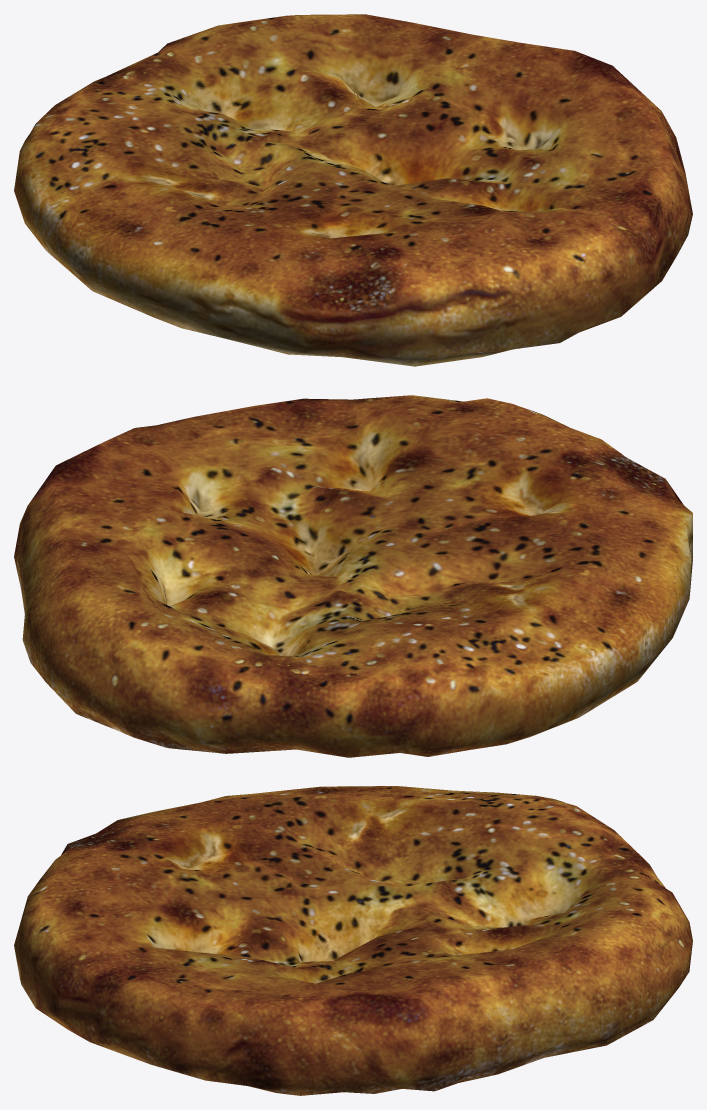
The model's file is SM_Flatbread_01a.fbx.
3 renders of one model, top to bottom at view 1: azimuth 30°, elevation 25°; view 2: azimuth 150°, elevation 25°; view 3: azimuth 270°, elevation 25°, orthographic. The views are drawn at different scales.
Visible parts, largest first — view 1: SM_Flatbread_01a; view 2: SM_Flatbread_01a; view 3: SM_Flatbread_01a.
Part boxes in pixels (x1,y1,x2,y2): SM_Flatbread_01a: [14, 14, 692, 366]; SM_Flatbread_01a: [14, 395, 692, 757]; SM_Flatbread_01a: [14, 786, 692, 1095].
Bounding box in the file's own units: 0.2318 × 0.2491 × 0.0397.
